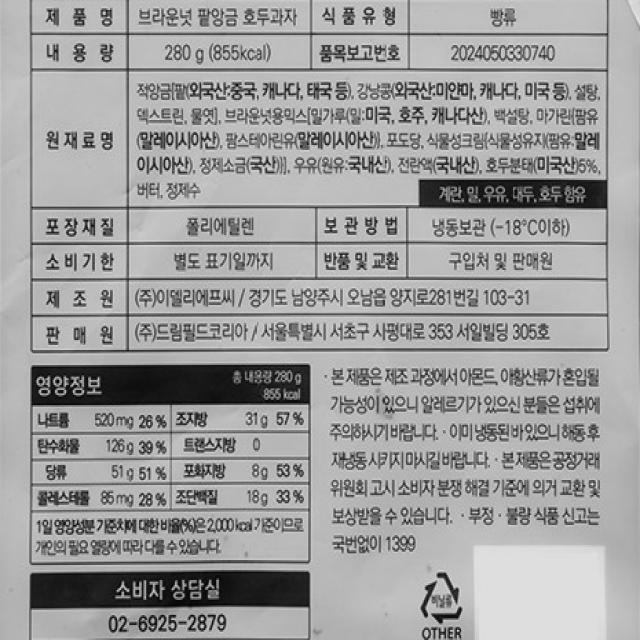Nutrition Label: (19, 353, 320, 572)
